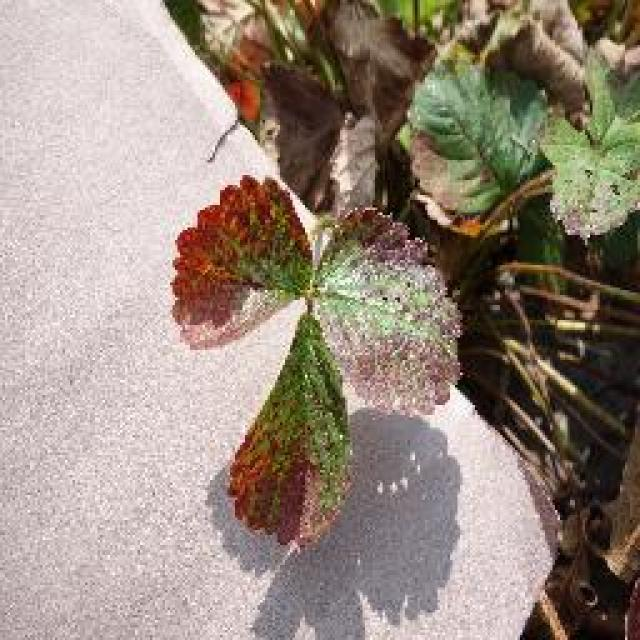Strawberry leaf scorch: (155, 160, 452, 558)
